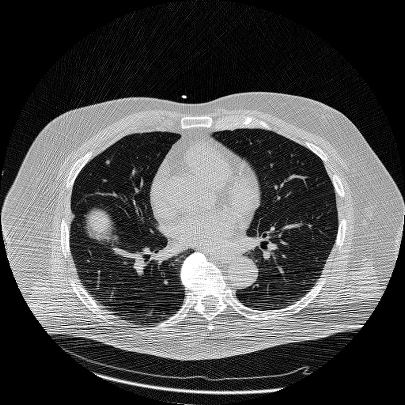nodule: (105, 160, 109, 164)
